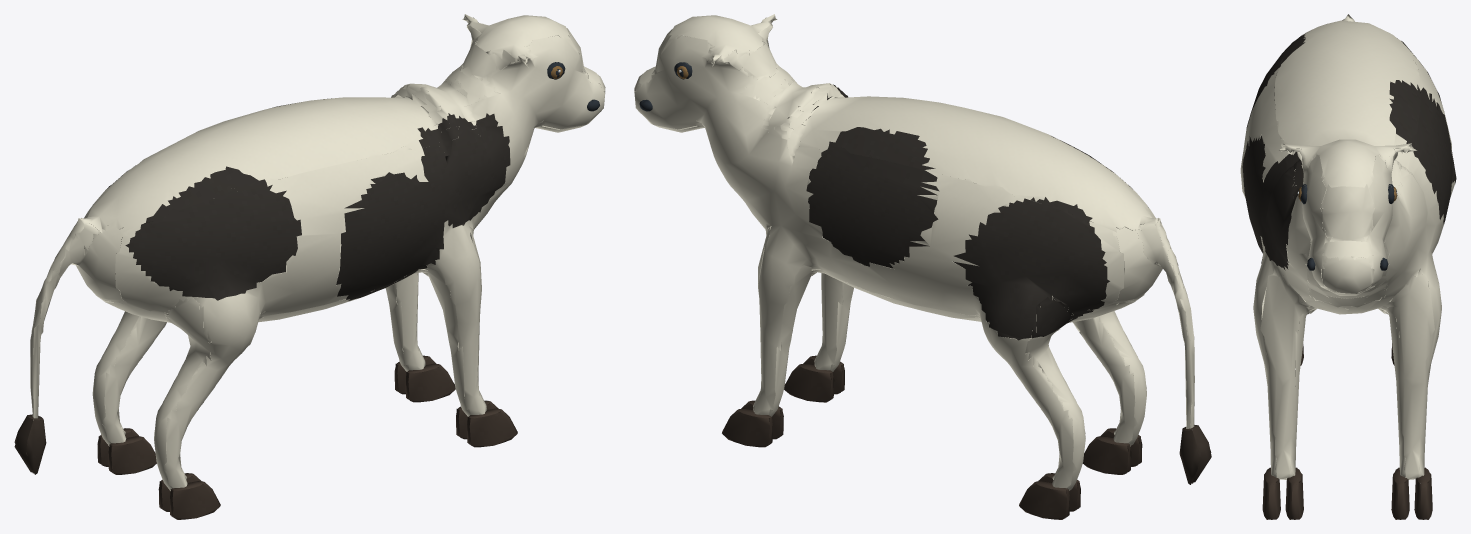
Rendered from cattle.glb.
3 views of the same model, side by side, from view 1: azimuth 30°, elevation 25°; view 2: azimuth 150°, elevation 25°; view 3: azimuth 270°, elevation 25° (orthographic). The views are drawn at different scales.
Visible parts, largest first — view 1: Cloven tapered hoof; view 2: Cloven tapered hoof; view 3: Cloven tapered hoof.
Part boxes in pixels (left/top/right/bottom): Cloven tapered hoof: left=14, top=14, right=605, bottom=519; Cloven tapered hoof: left=634, top=14, right=1211, bottom=519; Cloven tapered hoof: left=1240, top=14, right=1456, bottom=519.
Size of the model in its own units: 2.4 by 1.5 by 0.7368.
Materials: 7 (7 with a texture image).
